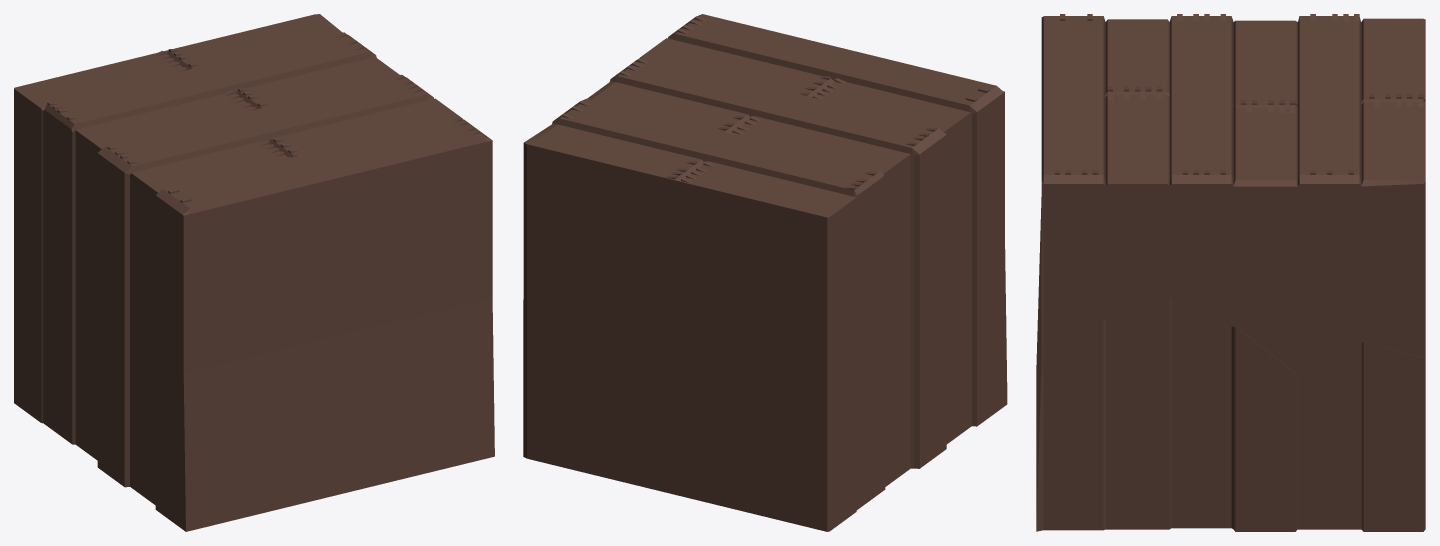
File: Wood Brick.fbx
3 renders of one model, left to right at view 1: azimuth 30°, elevation 25°; view 2: azimuth 150°, elevation 25°; view 3: azimuth 270°, elevation 25°, orthographic. The views are drawn at different scales.
Parts seen in each view (by area): view 1: Wood_Brick; view 2: Wood_Brick; view 3: Wood_Brick.
Boxes of the visible parts, x1=… form: Wood_Brick: x1=14, y1=14, x2=494, y2=531; Wood_Brick: x1=523, y1=14, x2=1007, y2=531; Wood_Brick: x1=1036, y1=14, x2=1425, y2=531.
Size of the model in its own units: 1.03 by 1.02 by 1.01.
